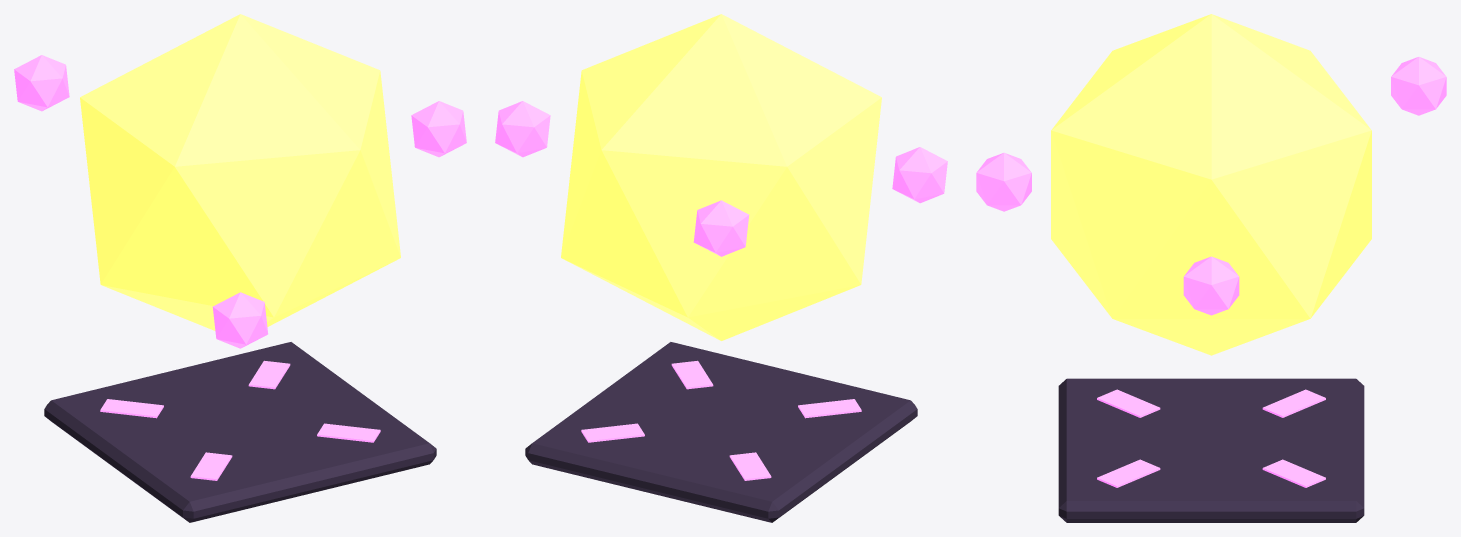
Rendered from loot_powerup_orb.glb.
The picture shows the model from 3 angles, left to right: view 1: azimuth 30°, elevation 25°; view 2: azimuth 150°, elevation 25°; view 3: azimuth 270°, elevation 25°; orthographic projection. The views are drawn at different scales.
Visible parts, largest first — view 1: Orb_Shell, Orb_Base_Ring, Orb_Mote_1, Orb_Mote_3, Orb_Mote_2, Orb_Rune_4, Orb_Rune_2, Orb_Rune_3, Orb_Rune_1; view 2: Orb_Shell, Orb_Base_Ring, Orb_Mote_1, Orb_Mote_2, Orb_Mote_3, Orb_Rune_1, Orb_Rune_3, Orb_Rune_2, Orb_Rune_4; view 3: Orb_Shell, Orb_Base_Ring, Orb_Mote_1, Orb_Mote_2, Orb_Mote_3, Orb_Rune_1, Orb_Rune_4, Orb_Rune_2, Orb_Rune_3.
Boxes of the visible parts, x1,y1,x2,y2 form: Orb_Shell: (80, 14, 400, 330); Orb_Base_Ring: (44, 342, 436, 522); Orb_Mote_1: (411, 101, 466, 157); Orb_Mote_3: (212, 292, 268, 348); Orb_Mote_2: (14, 55, 69, 111); Orb_Rune_4: (317, 423, 380, 442); Orb_Rune_2: (100, 399, 163, 418); Orb_Rune_3: (190, 452, 232, 480); Orb_Rune_1: (248, 360, 290, 389); Orb_Shell: (561, 14, 881, 340); Orb_Base_Ring: (525, 342, 917, 522); Orb_Mote_1: (495, 101, 550, 157); Orb_Mote_2: (693, 200, 749, 256); Orb_Mote_3: (892, 147, 947, 203); Orb_Rune_1: (581, 423, 644, 442); Orb_Rune_3: (798, 399, 861, 418); Orb_Rune_2: (729, 452, 771, 480); Orb_Rune_4: (671, 360, 713, 389); Orb_Shell: (1051, 14, 1371, 355); Orb_Base_Ring: (1058, 378, 1364, 522); Orb_Mote_1: (1183, 256, 1239, 315); Orb_Mote_2: (1391, 57, 1446, 115); Orb_Mote_3: (976, 152, 1031, 211); Orb_Rune_1: (1262, 459, 1325, 487); Orb_Rune_4: (1097, 459, 1160, 487); Orb_Rune_2: (1262, 389, 1325, 417); Orb_Rune_3: (1097, 389, 1160, 417).
Size of the model in its own units: 0.4291 by 0.485 by 0.4615.
